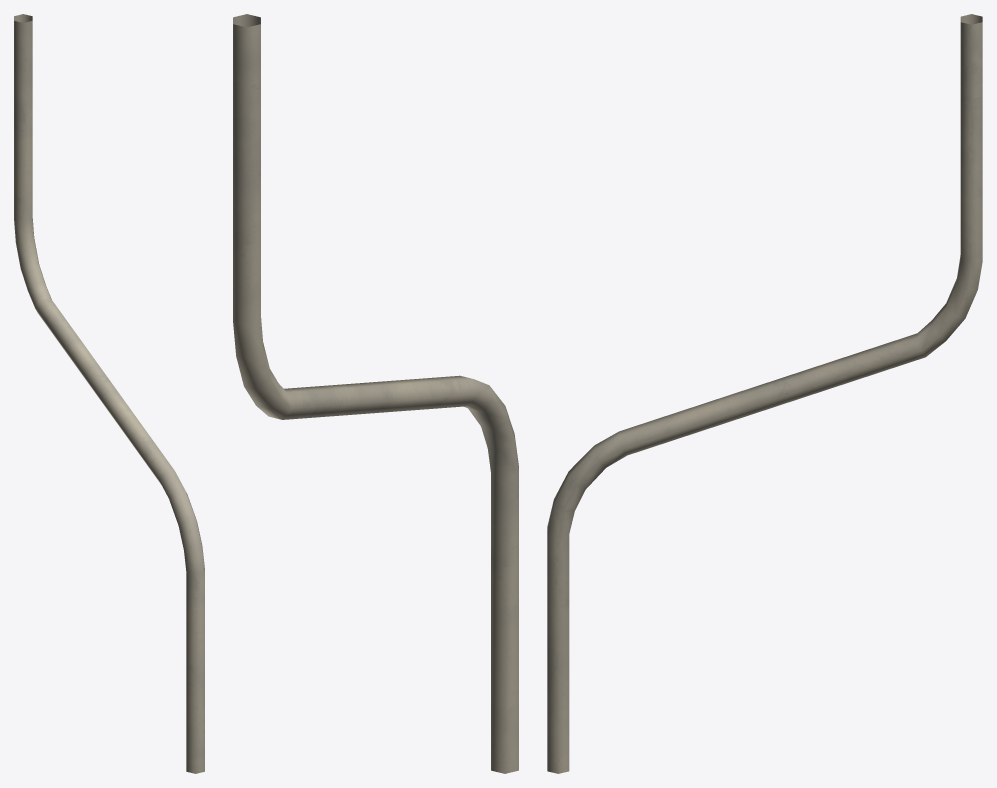
Rendered from MB_Tube_B_Angle_03.fbx.
3 renders of one model, left to right at view 1: azimuth 30°, elevation 25°; view 2: azimuth 150°, elevation 25°; view 3: azimuth 270°, elevation 25°, orthographic. The views are drawn at different scales.
Parts seen in each view (by area): view 1: MB_Tube_B_Angle_03; view 2: MB_Tube_B_Angle_03; view 3: MB_Tube_B_Angle_03.
Boxes of the visible parts, left/top/right/bottom form: MB_Tube_B_Angle_03: left=14, top=14, right=204, bottom=773; MB_Tube_B_Angle_03: left=233, top=14, right=518, bottom=773; MB_Tube_B_Angle_03: left=547, top=14, right=982, bottom=773.
Bounding box in the file's own units: 6.2 × 200 × 105.
